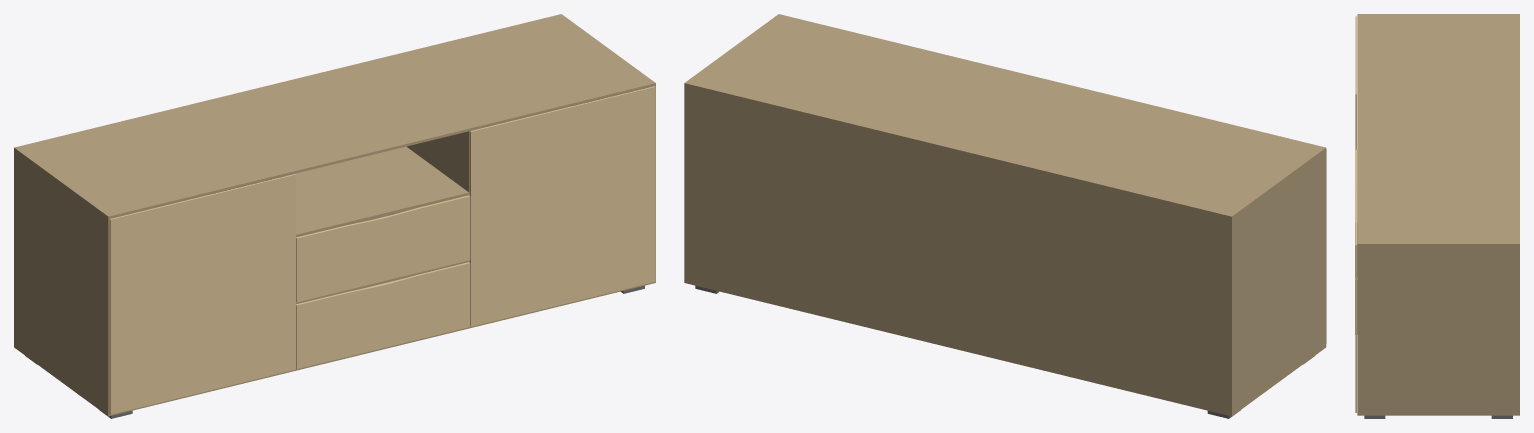
Rendered from TV_Stand_3.fbx.
3 renders of one model, left to right at view 1: azimuth 30°, elevation 25°; view 2: azimuth 150°, elevation 25°; view 3: azimuth 270°, elevation 25°, orthographic. The views are drawn at different scales.
Parts seen in each view (by area): view 1: TV_Stand3, Tv_Stand3_Cupboard1, Tv_Stand3_Cupboard2, Tv_Stand3_Draw2, Tv_Stand3_Draw1; view 2: TV_Stand3; view 3: TV_Stand3, Tv_Stand3_Cupboard2, Tv_Stand3_Draw1, Tv_Stand3_Cupboard1.
Part boxes in pixels (x1=…): TV_Stand3: x1=14, y1=14, x2=655, y2=418; Tv_Stand3_Cupboard1: x1=109, y1=174, x2=295, y2=414; Tv_Stand3_Cupboard2: x1=470, y1=86, x2=655, y2=326; Tv_Stand3_Draw2: x1=296, y1=262, x2=470, y2=368; Tv_Stand3_Draw1: x1=296, y1=195, x2=470, y2=302; TV_Stand3: x1=684, y1=14, x2=1326, y2=418; TV_Stand3: x1=1357, y1=14, x2=1519, y2=418; Tv_Stand3_Cupboard2: x1=1355, y1=167, x2=1356, y2=412; Tv_Stand3_Draw1: x1=1355, y1=149, x2=1357, y2=277; Tv_Stand3_Cupboard1: x1=1355, y1=16, x2=1356, y2=149.
Size of the model in its own units: 534 by 193 by 162.
